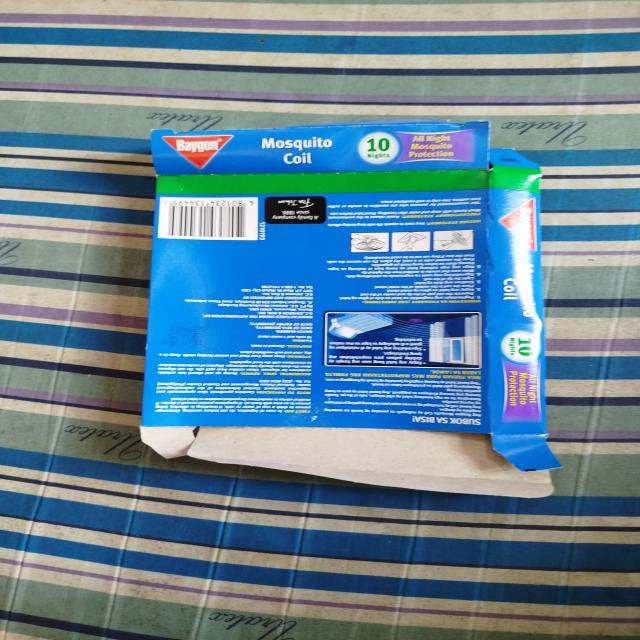paper: (102, 93, 595, 533)
